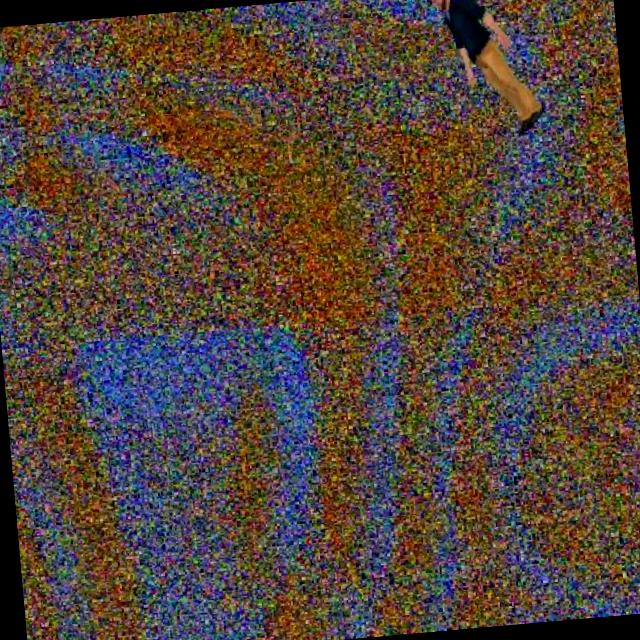Person: (416, 0, 549, 147)
